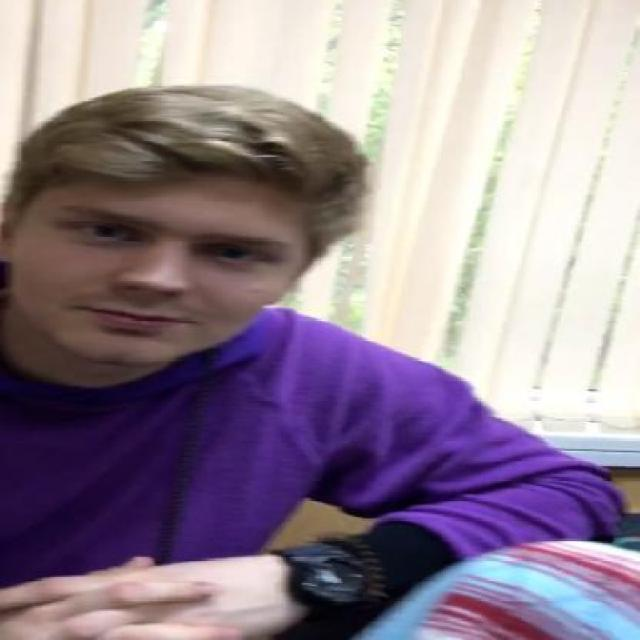closed-mouth: (63, 298, 203, 340)
